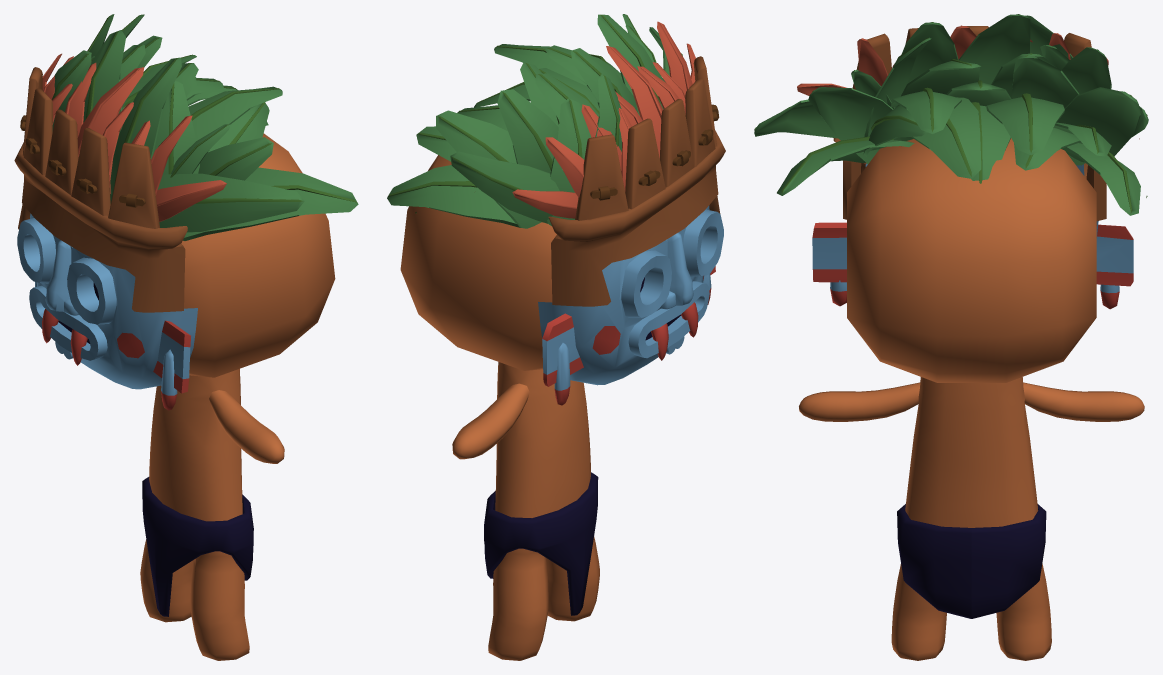
The model's file is Quetzalcoatl.fbx.
3 views of the same model, side by side, from view 1: azimuth 30°, elevation 25°; view 2: azimuth 150°, elevation 25°; view 3: azimuth 270°, elevation 25° (orthographic). The views are drawn at different scales.
Parts seen in each view (by area): view 1: Cylinder.023; view 2: Cylinder.023; view 3: Cylinder.023.
Part boxes in pixels (x1,y1,x2,y2): Cylinder.023: [14, 14, 358, 660]; Cylinder.023: [387, 14, 725, 660]; Cylinder.023: [754, 14, 1148, 660].
Size of the model in its own units: 264 by 591 by 346.
